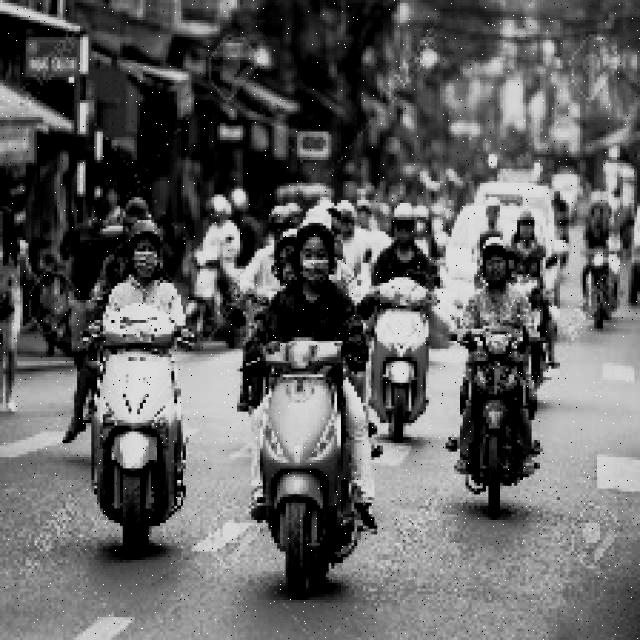Bike: (255, 328, 368, 596), (88, 303, 192, 555), (464, 325, 540, 516), (358, 268, 430, 434), (575, 230, 622, 335)
